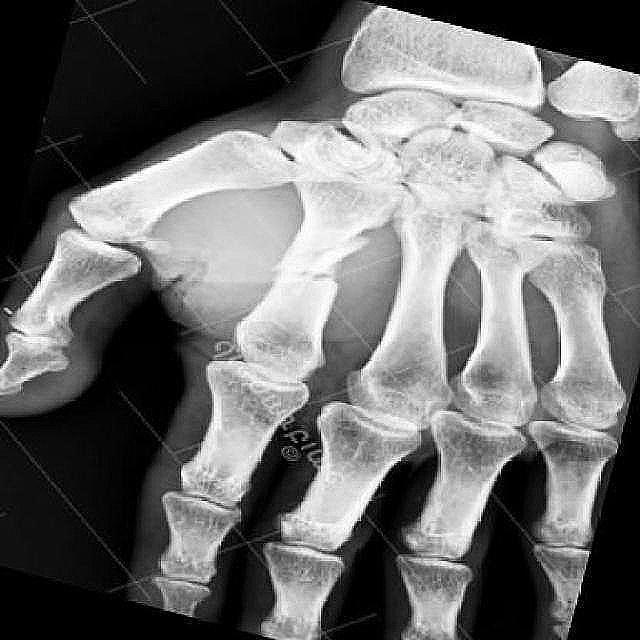bone: (249, 232, 357, 311)
